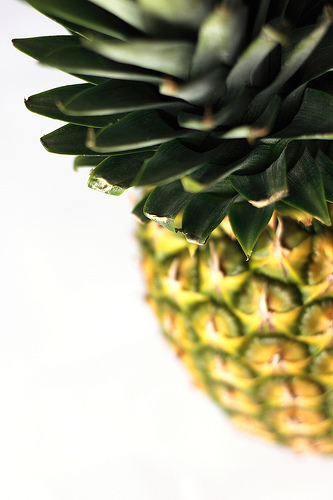pineapple: (11, 0, 331, 460)
